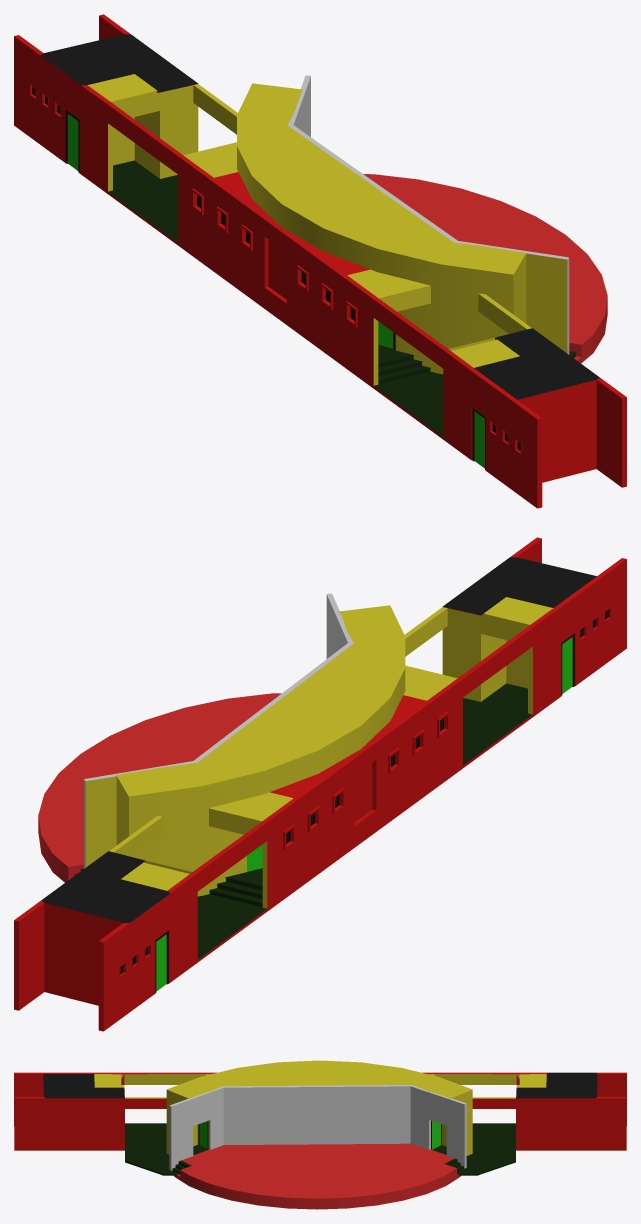
The model's file is OTA.fbx.
The picture shows the model from 3 angles, top to bottom: view 1: azimuth 30°, elevation 25°; view 2: azimuth 150°, elevation 25°; view 3: azimuth 270°, elevation 25°; orthographic projection. The views are drawn at different scales.
Visible parts, largest first — view 1: Vert.009, Vert.010, Circle.008, Vert.002, Stairs; view 2: Vert.009, Vert.010, Circle.008, Vert.002, Stairs.001; view 3: Vert.010, Vert.009, Circle.008, Vert.002, Door.004.
Part boxes in pixels (x1=…): Vert.009: x1=14, y1=14, x2=626, y2=508; Vert.010: x1=237, y1=75, x2=569, y2=374; Circle.008: x1=363, y1=174, x2=607, y2=363; Vert.002: x1=113, y1=160, x2=443, y2=431; Stairs: x1=378, y1=344, x2=430, y2=383; Vert.009: x1=14, y1=537, x2=626, y2=1031; Vert.010: x1=83, y1=593, x2=405, y2=896; Circle.008: x1=38, y1=693, x2=281, y2=882; Vert.002: x1=197, y1=683, x2=527, y2=954; Stairs.001: x1=209, y1=868, x2=262, y2=907; Vert.010: x1=166, y1=1060, x2=472, y2=1170; Vert.009: x1=14, y1=1072, x2=626, y2=1150; Circle.008: x1=174, y1=1143, x2=460, y2=1209; Vert.002: x1=125, y1=1124, x2=515, y2=1175; Door.004: x1=432, y1=1121, x2=440, y2=1149.
Size of the model in its own units: 1185 by 3718 by 458.
